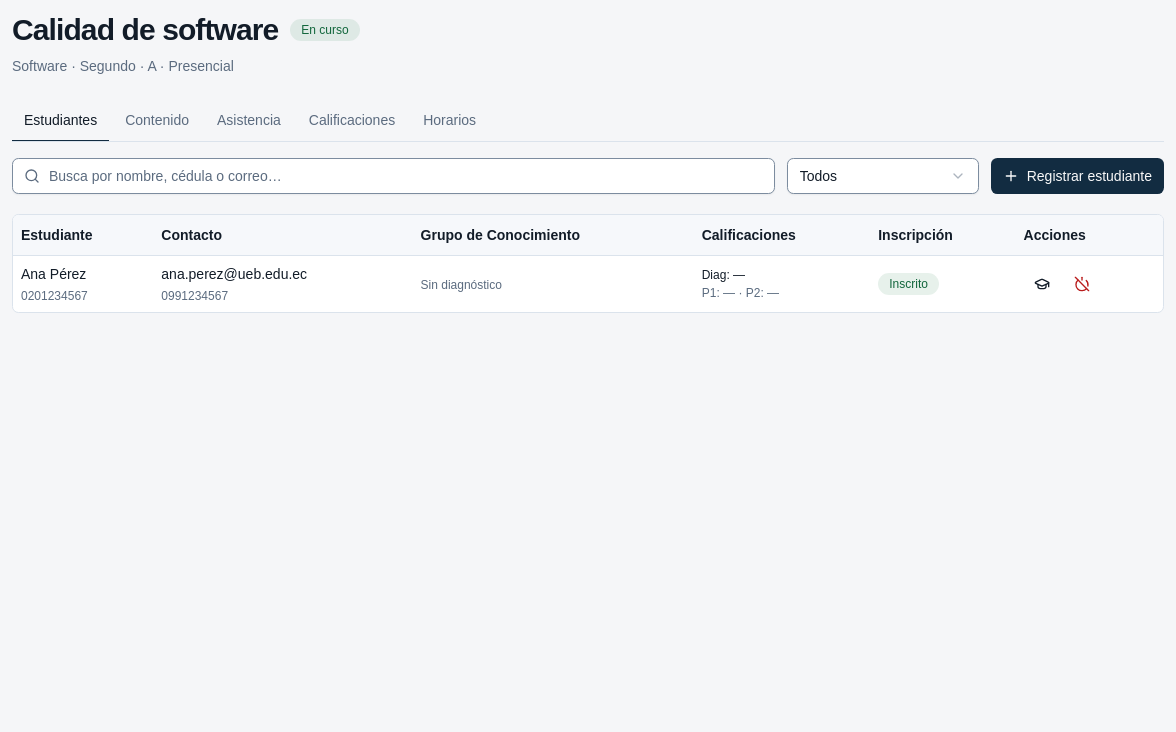
it: Módulo Docente › cambia de sección dentro de la misma tutoría sin volver a elegirla
Expected: the text "Ana Pérez" is shown, [21, 266, 86, 282]
Click the tab "Calificaciones" at (352, 121), box [297, 100, 407, 142]
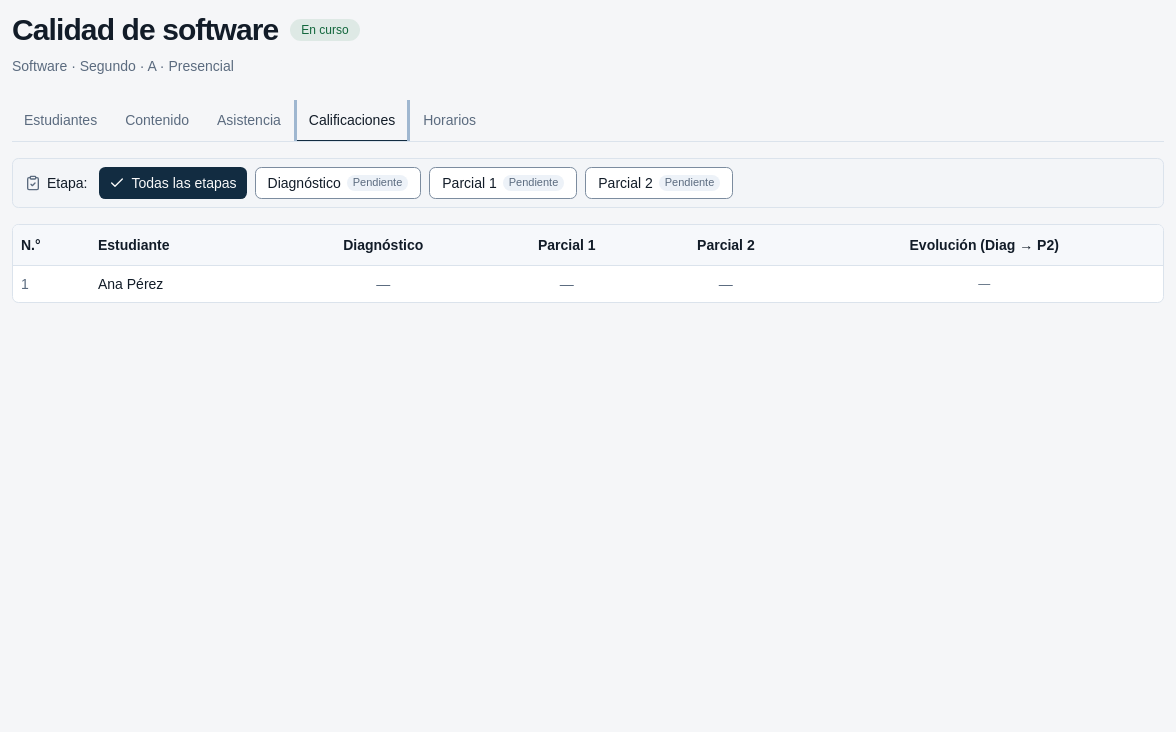
Now the button "Diagnóstico Pendiente" is shown, box [255, 167, 421, 199]
Click the tab "Horarios" at (450, 121), box [411, 100, 488, 142]
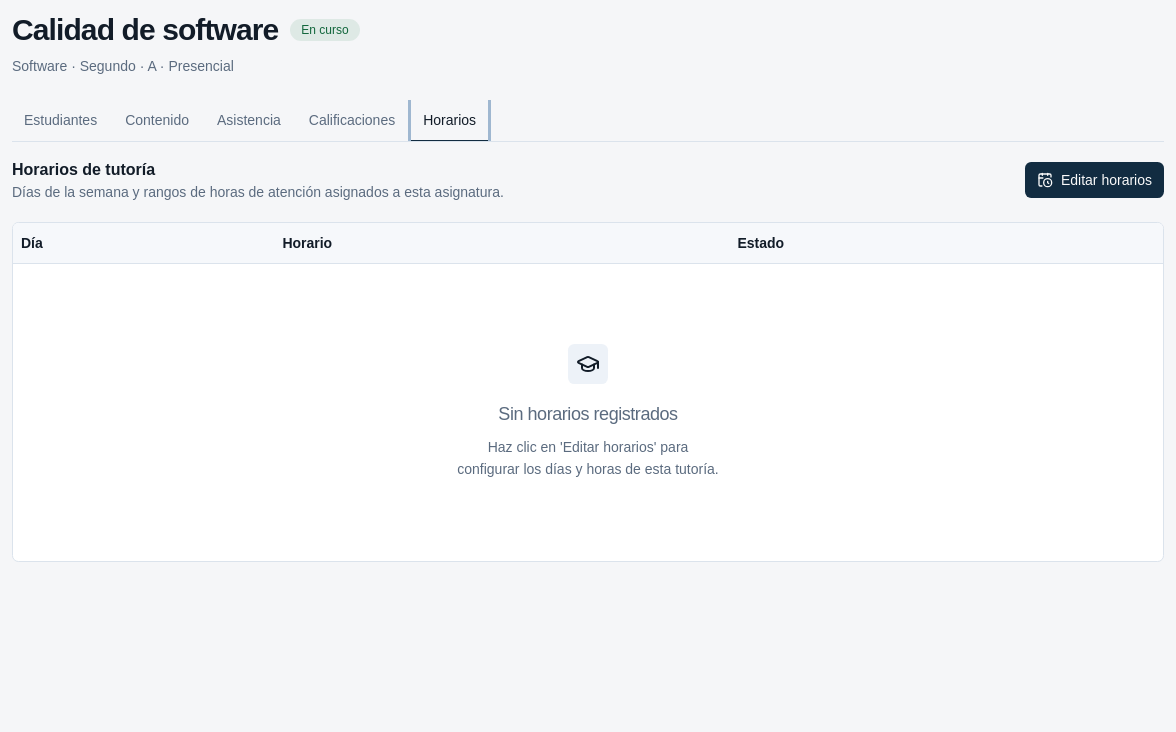
Now the text "Sin horarios registrados" is shown, box [498, 400, 678, 428]
